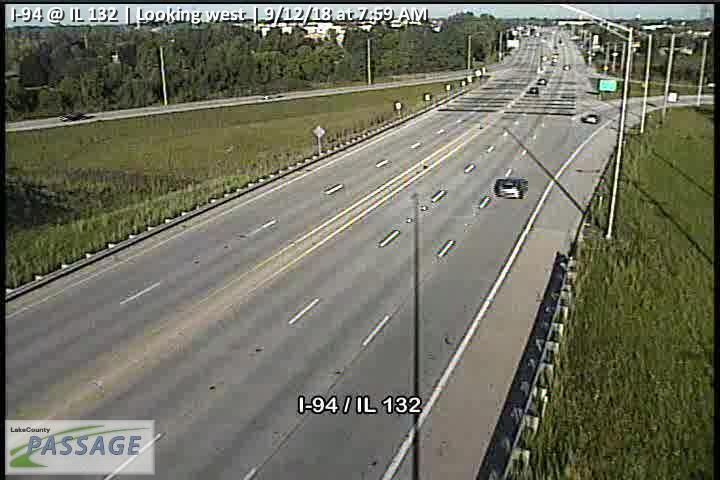Sedan: (494, 177, 529, 198)
